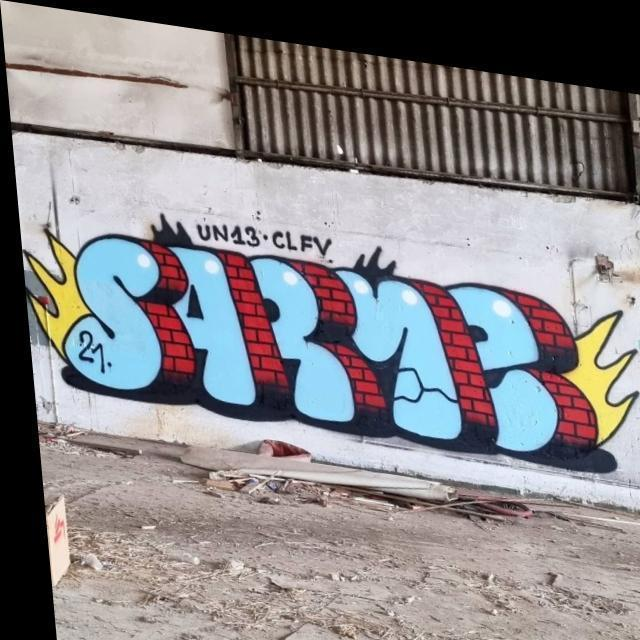nonspitting: (26, 213, 638, 475), (197, 222, 332, 256)
